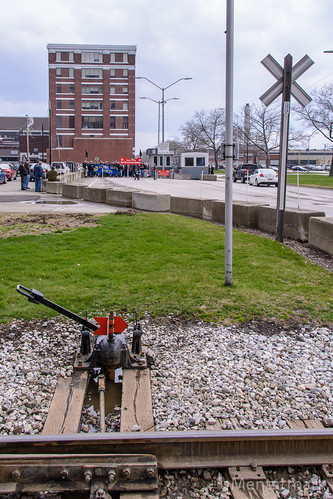building: (45, 43, 137, 174), (1, 117, 49, 158)
grass: (2, 206, 317, 322)
sky: (1, 1, 320, 120)
train track: (26, 328, 333, 499)
tree: (236, 104, 296, 166), (176, 99, 226, 167)
